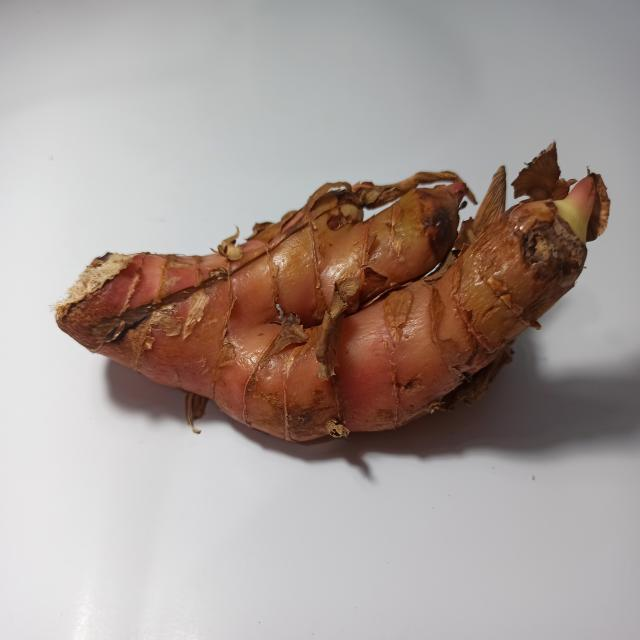ginger: (103, 132, 560, 420)
